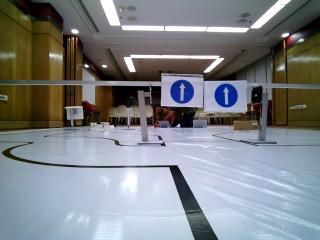straight: (160, 73, 202, 105), (206, 82, 247, 110)
